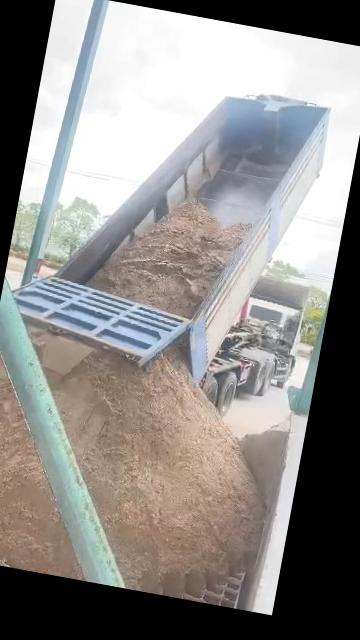sand: (53, 345, 264, 597), (90, 201, 247, 316), (0, 382, 79, 577), (28, 326, 90, 377), (242, 423, 285, 490), (0, 343, 4, 388)
